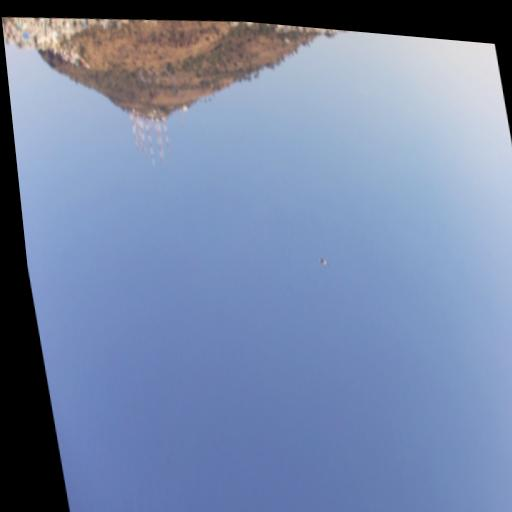drones: (316, 255, 329, 268)
